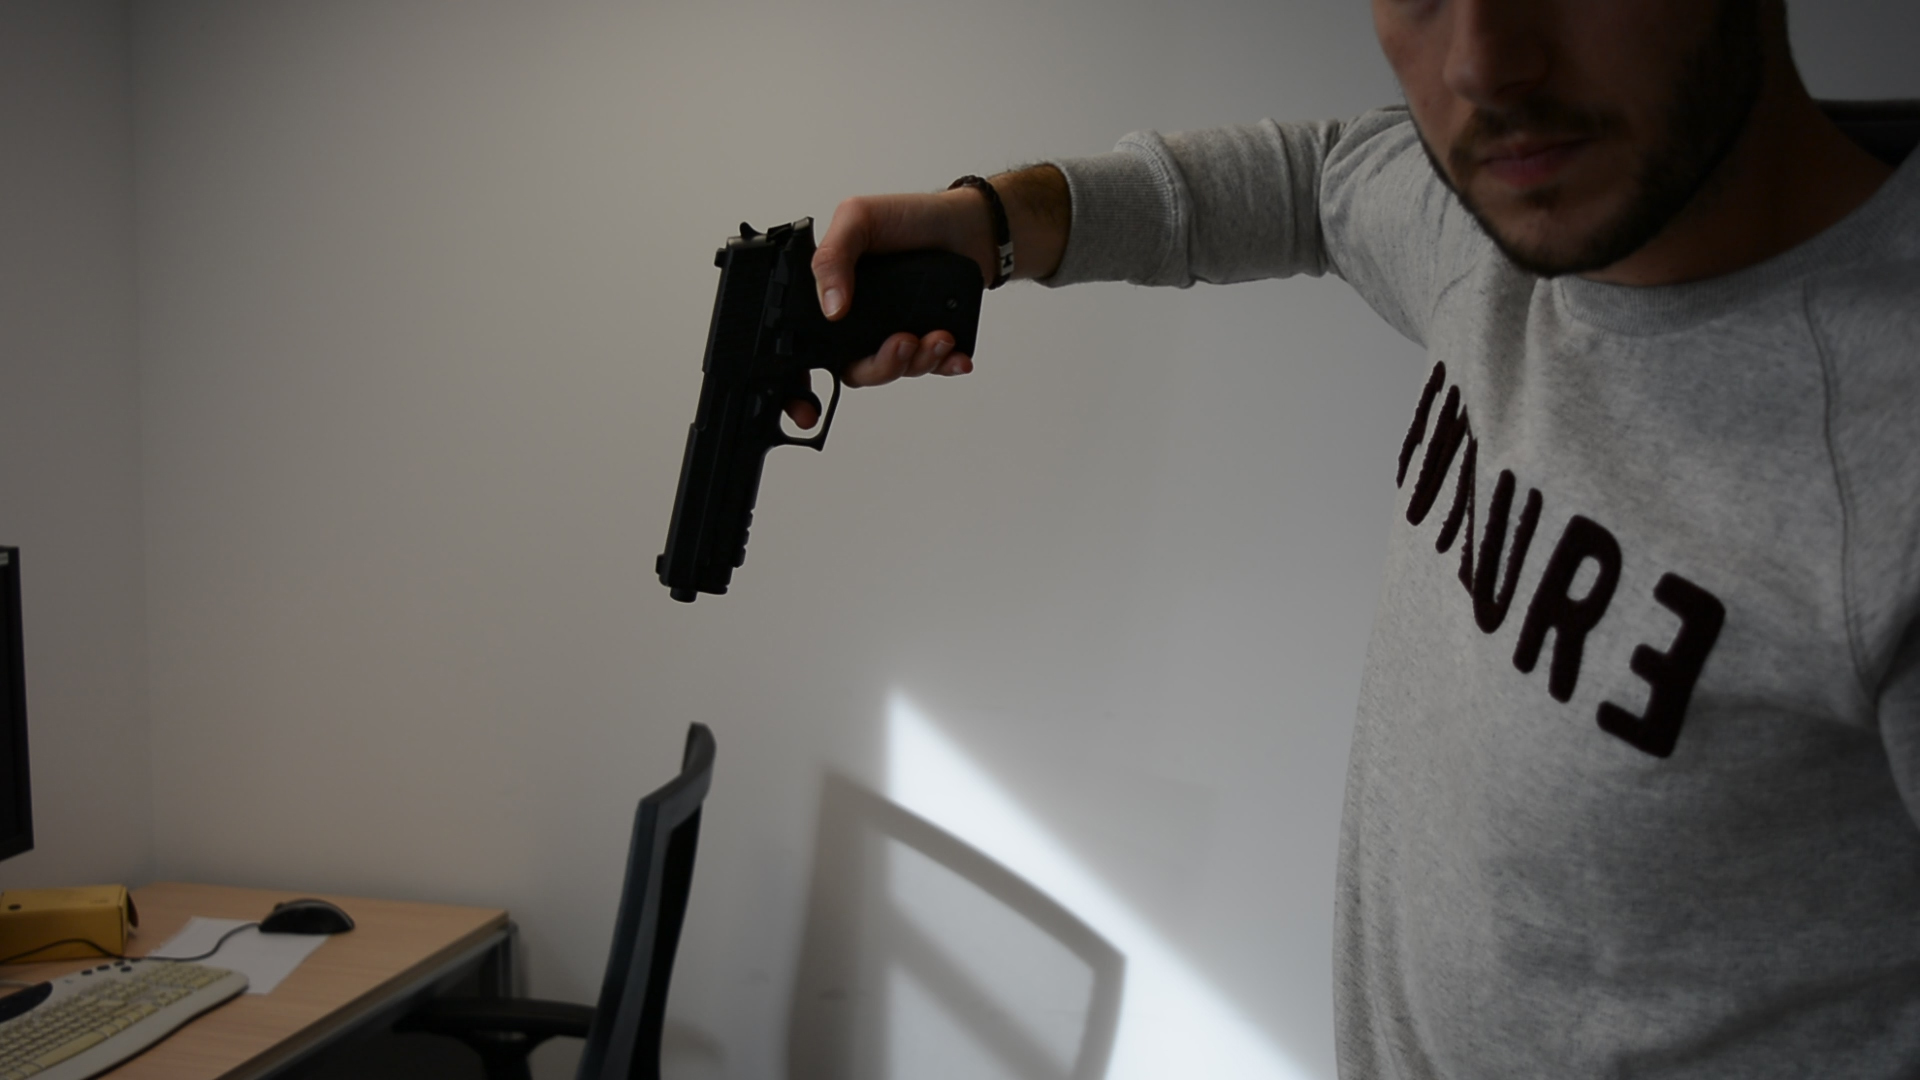pistol: (651, 215, 986, 607)
